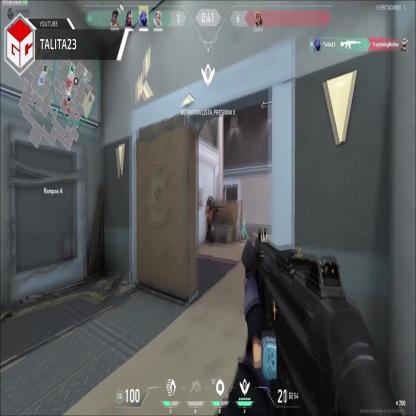enemy: (204, 196, 214, 246)
enemy_head: (208, 199, 212, 208)
